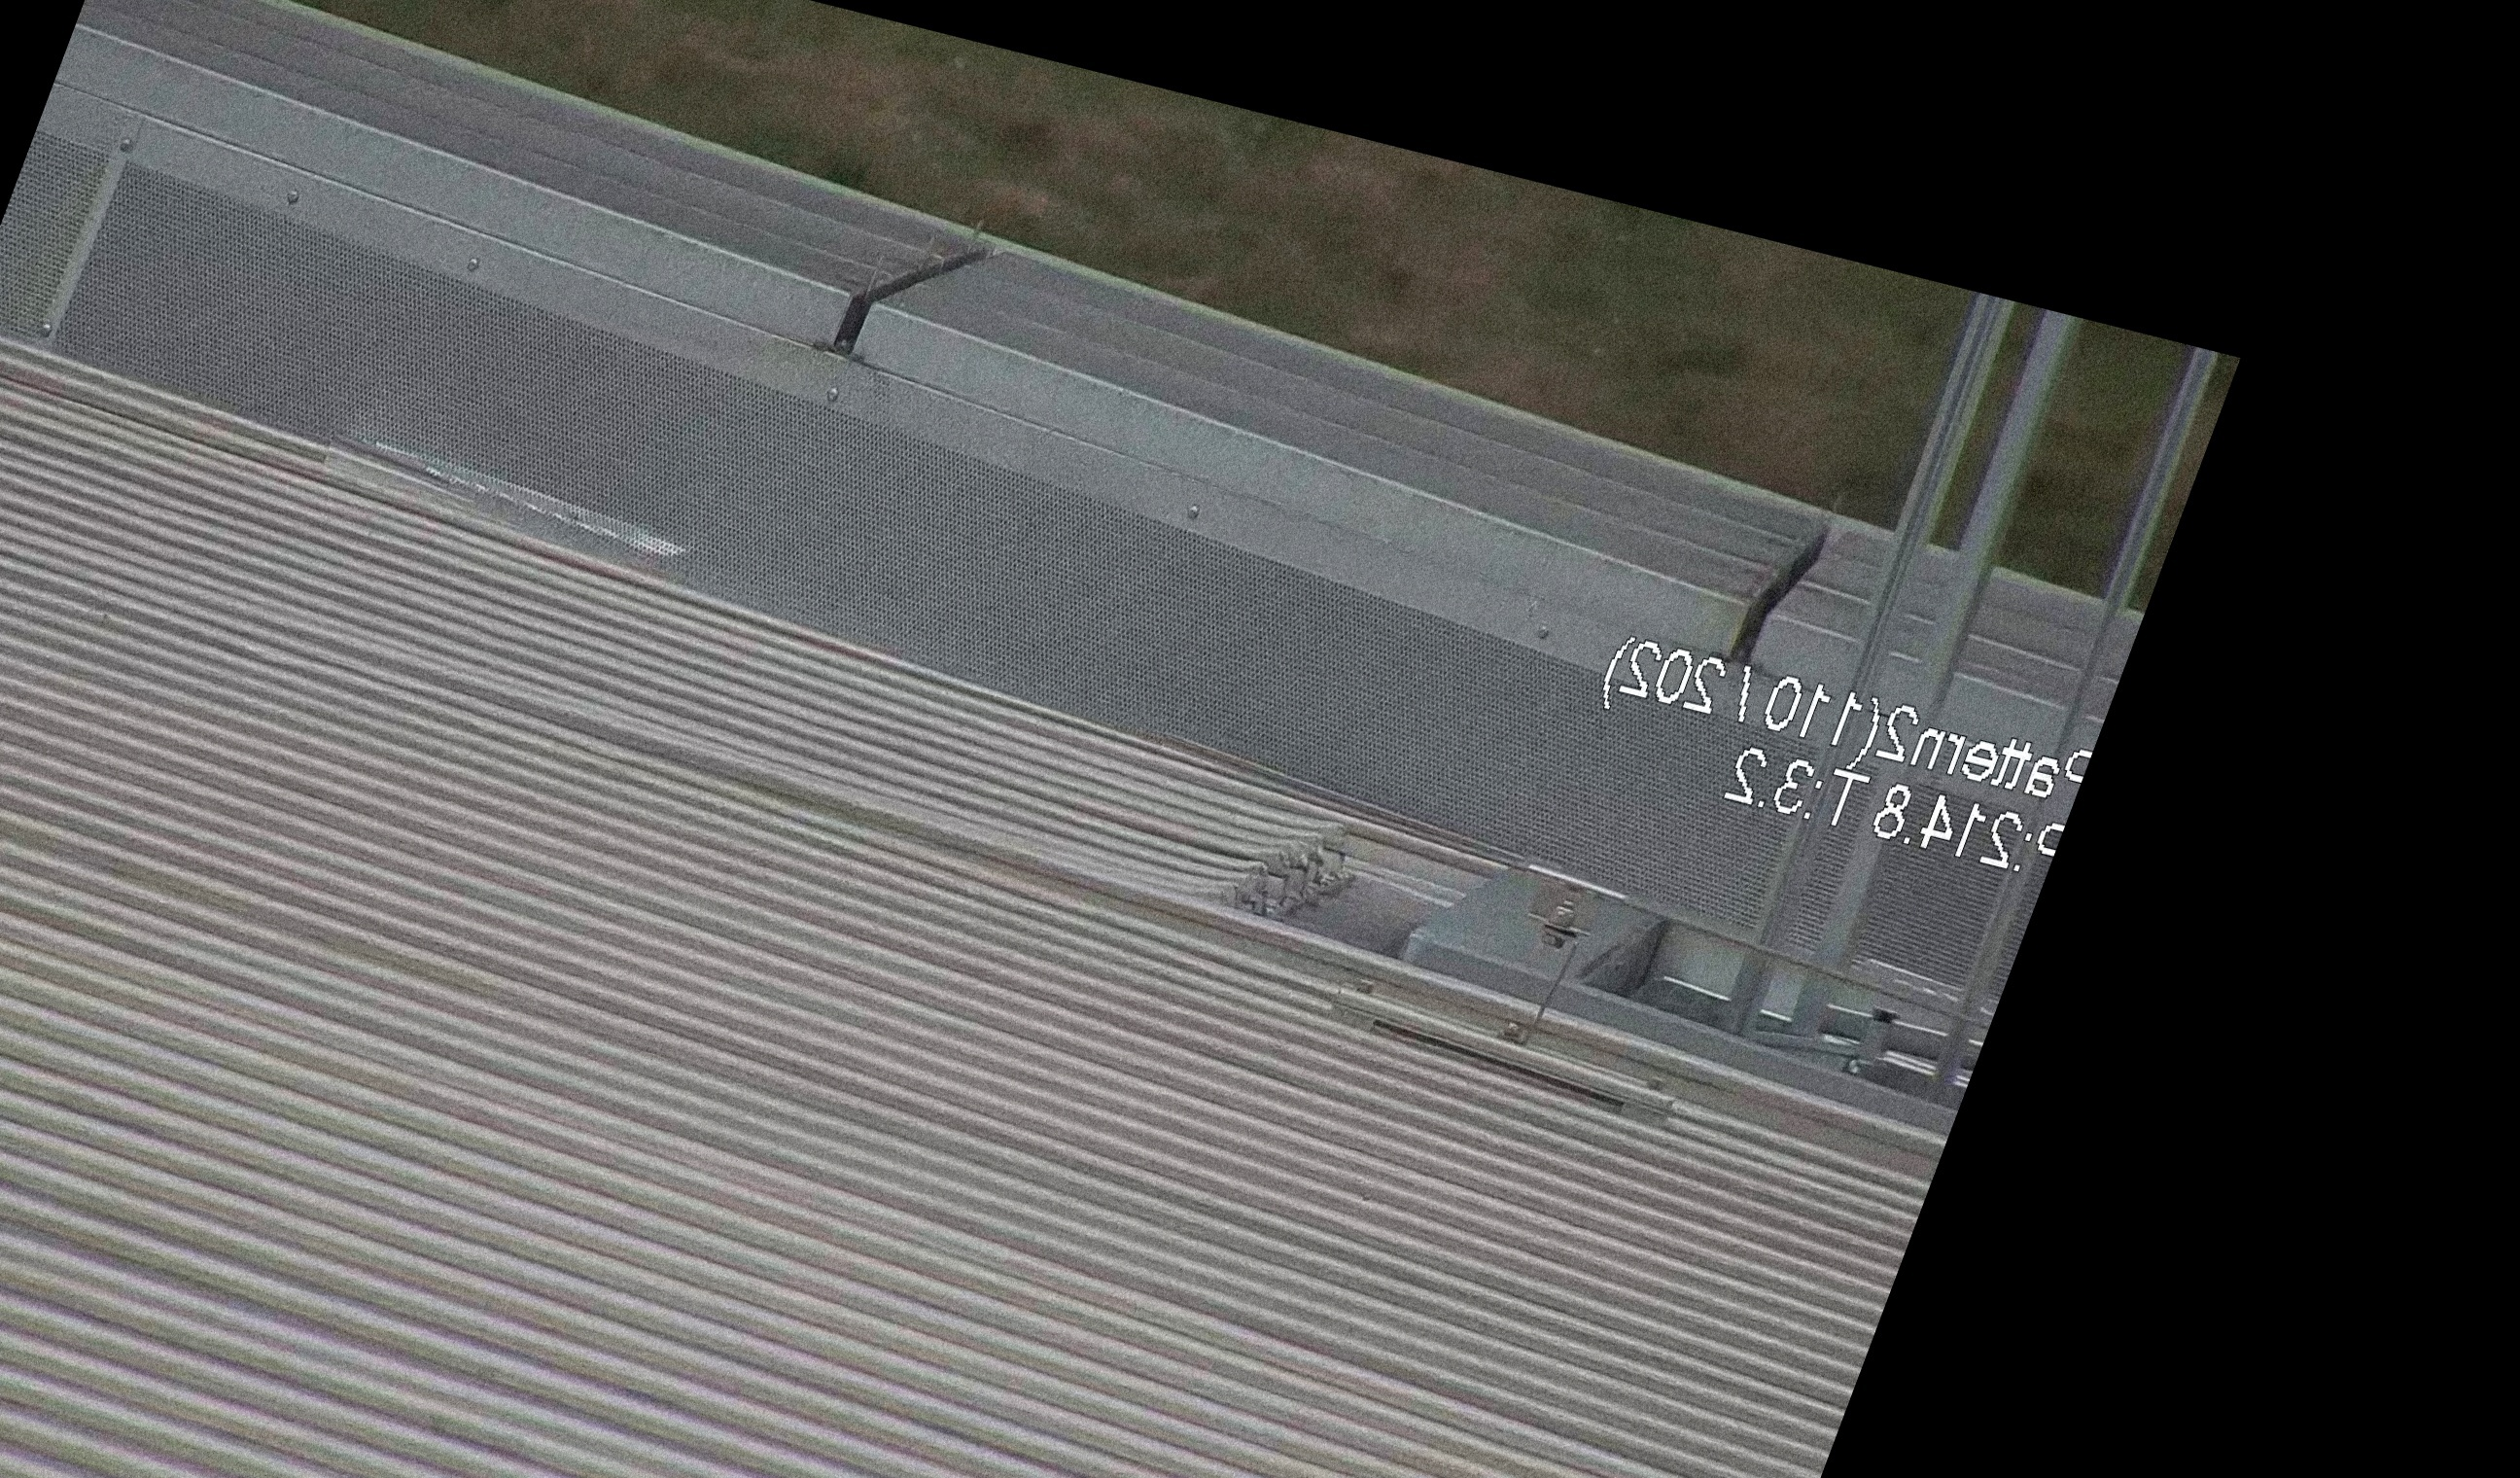Other: (1709, 500, 1878, 714)
